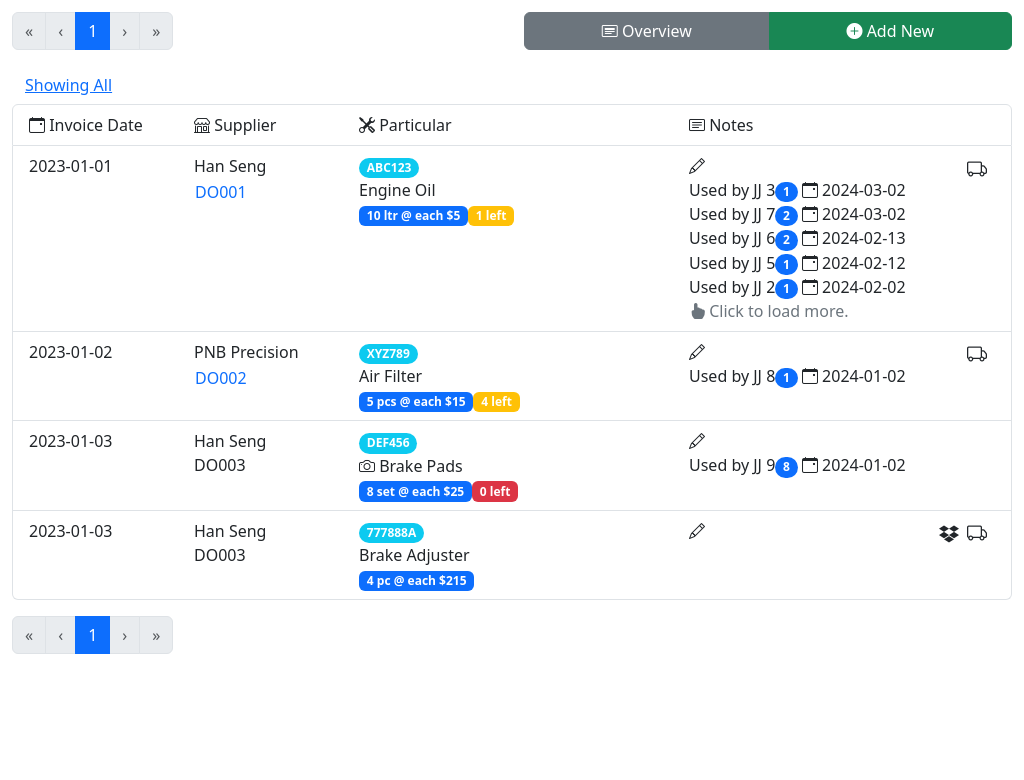
it: displays correct quantities and supplier info for all orders
Expected: the text "1 left" is shown 3 times, [468,206,514,226]; [474,392,520,412]; [472,481,518,502]
Expected: the text "1 left" is shown, [468,206,514,226]
// load the less of spare part usages
What coordinates should you click on to do the following:
click the button "Click to load more."
I would click on:
 (697, 311)
Its box is [689,300,849,322].
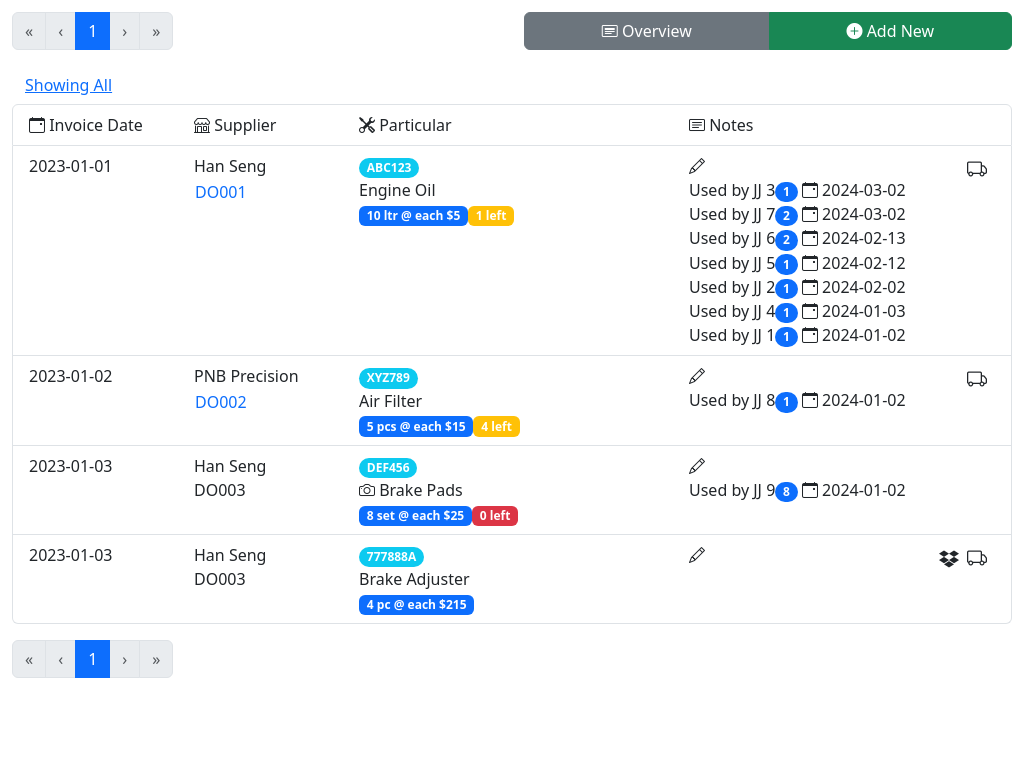
Expected: the text "Used by JJ 3 1 2024-03-02" is shown 9 times
